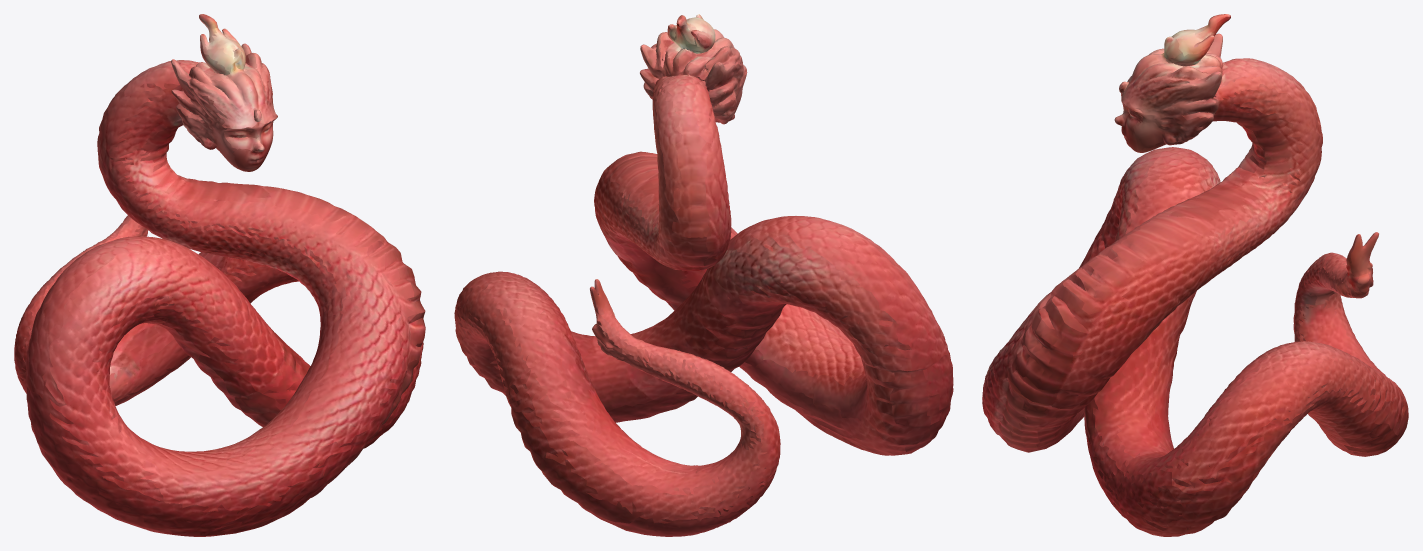
Rendered from zhulong.glb.
3 renders of one model, left to right at view 1: azimuth 30°, elevation 25°; view 2: azimuth 150°, elevation 25°; view 3: azimuth 270°, elevation 25°, orthographic. The views are drawn at different scales.
Parts seen in each view (by area): view 1: geometry_0; view 2: geometry_0; view 3: geometry_0.
Part boxes in pixels (box(x1,y1,x2,y2)): geometry_0: box(14, 14, 425, 536); geometry_0: box(454, 14, 953, 536); geometry_0: box(982, 14, 1408, 536).
Size of the model in its own units: 0.52 by 0.52 by 0.4423.
1 material, 1 textured.
